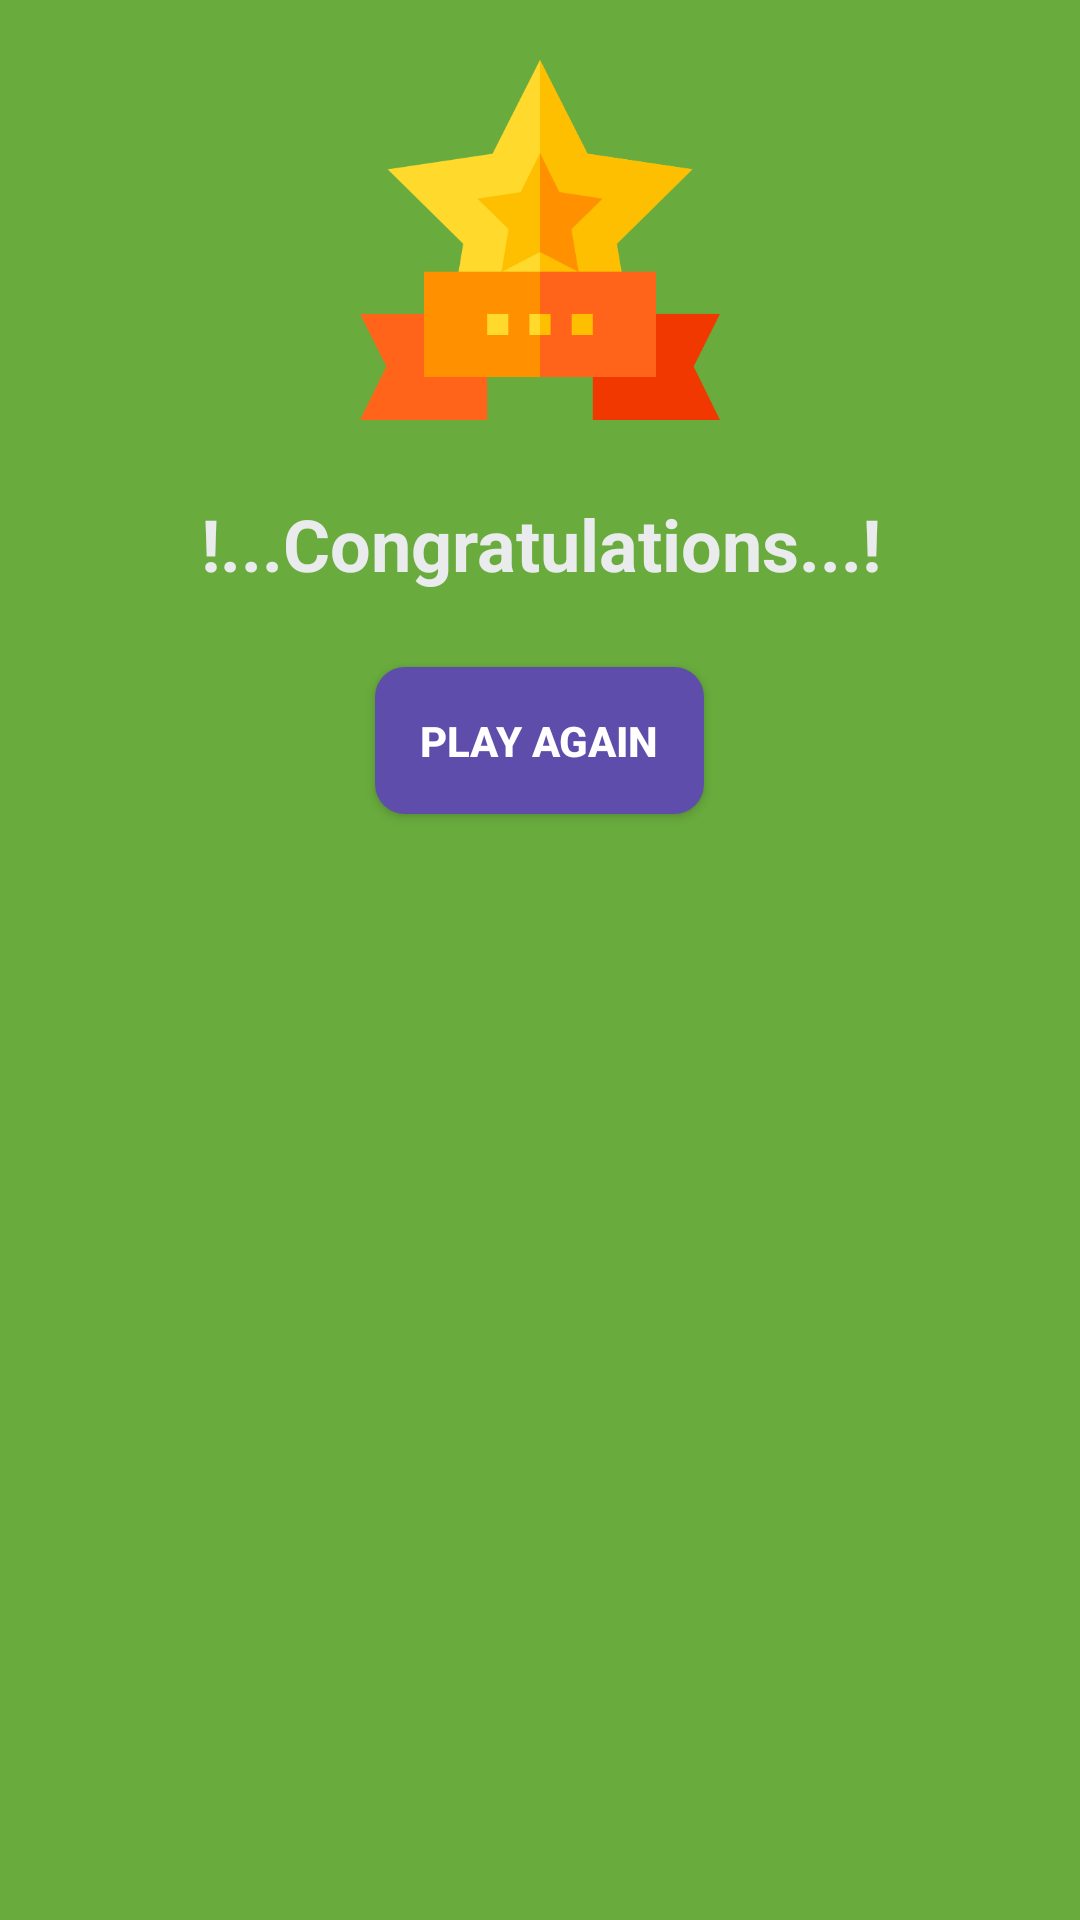

Point at icon controls on the screen. Image size 1080 x 1920, points as point (x, y).
winner: point (540, 240)
